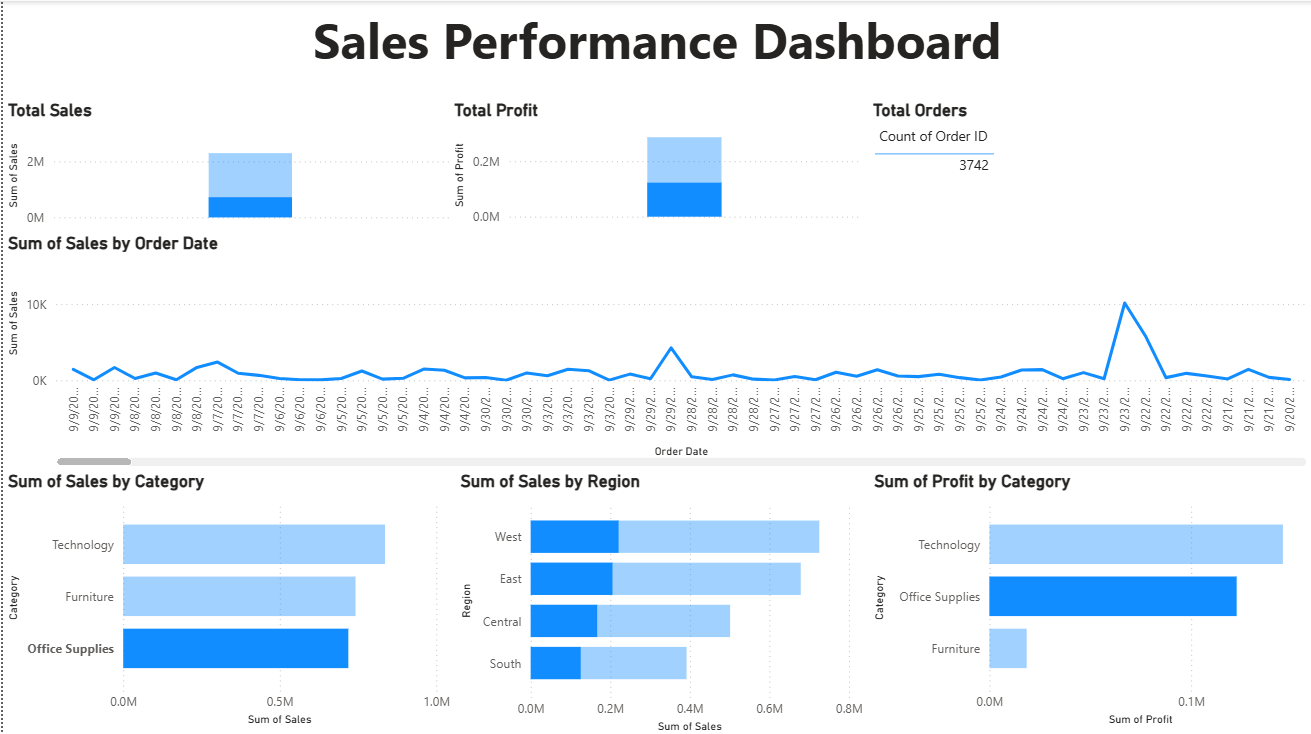

What the dashboard file says about the page in this screenshot:
{"tool":"powerbi","page":{"name":"Page 1","canvas":[1280,720],"ordinal":0},"visuals":[{"type":"columnChart","title":"Total Sales","fields":{"Y":["Sum(Sample - Superstore.Sales)"]},"box":[0,96.4,443.1,129.2],"z":0},{"type":"clusteredColumnChart","title":"Total Profit","fields":{"Y":["Sum(Sample - Superstore.Profit)"]},"box":[436.5,96.4,409.7,128.5],"z":1000},{"type":"lineChart","fields":{"Category":["Sample - Superstore.Order Date"],"Y":["Sum(Sample - Superstore.Sales)"]},"box":[0,225.6,1280,233.8],"z":3000},{"type":"barChart","fields":{"Y":["Sum(Sample - Superstore.Sales)"],"Category":["Sample - Superstore.Category"]},"box":[0,459.5,443.1,254.4],"z":4000},{"type":"barChart","fields":{"Category":["Sample - Superstore.Region"],"Y":["Sum(Sample - Superstore.Sales)"]},"box":[443.1,459.5,404.1,260.5],"z":5000},{"type":"barChart","fields":{"Category":["Sample - Superstore.Category"],"Y":["Sum(Sample - Superstore.Profit)"]},"box":[847.2,459.5,432.8,254.4],"z":6000},{"type":"textbox","box":[0,0,1280,96.4],"z":7000},{"type":"tableEx","title":"Total Orders","fields":{"Values":["Sample - Superstore.Order ID"]},"box":[846.2,96.4,433.8,128.5],"z":7001}]}

Visuals, with their boxes in screenshot pixels (x1, y1, x2, y2), scaled from the page's 1280x720 canvas onto the 1311x734 screenshot:
"Total Sales" columnChart: detection(0, 98, 454, 230)
"Total Profit" clusteredColumnChart: detection(447, 98, 867, 229)
lineChart - Sample - Superstore.Order Date x Sum(Sample - Superstore.Sales): detection(0, 230, 1310, 468)
barChart - Sum(Sample - Superstore.Sales) x Sample - Superstore.Category: detection(0, 468, 454, 728)
barChart - Sample - Superstore.Region x Sum(Sample - Superstore.Sales): detection(454, 468, 868, 733)
barChart - Sample - Superstore.Category x Sum(Sample - Superstore.Profit): detection(868, 468, 1310, 728)
textbox: detection(0, 0, 1310, 98)
"Total Orders" tableEx: detection(867, 98, 1310, 229)
